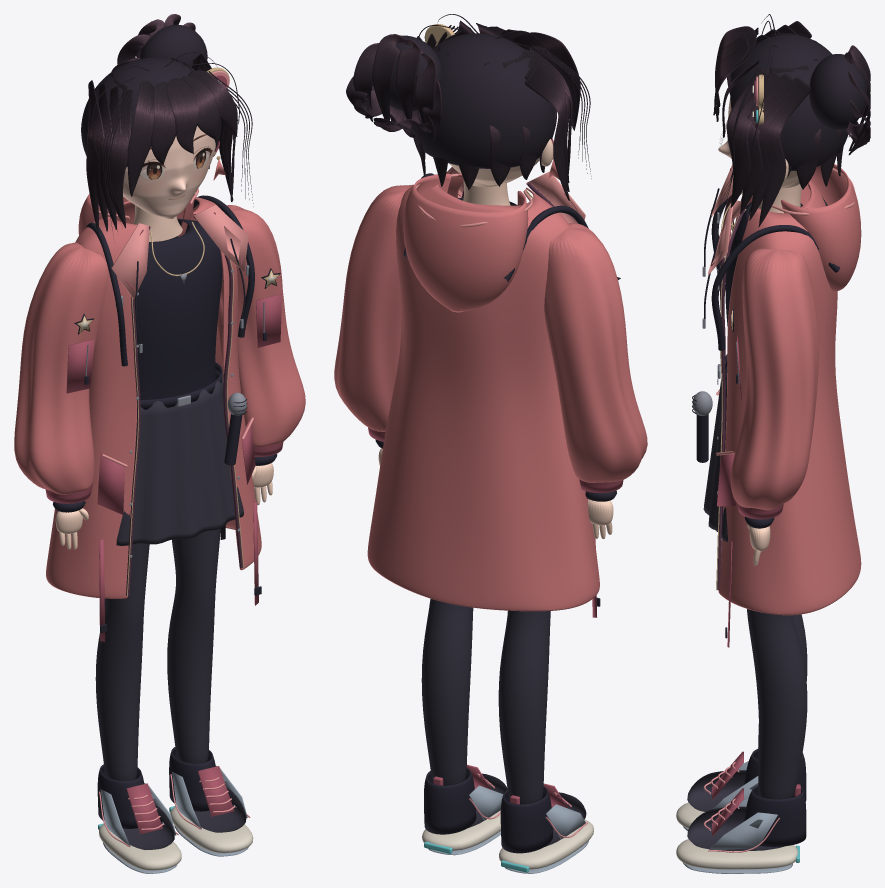
The model's file is kohaku.glb.
3 views of the same model, side by side, from view 1: azimuth 30°, elevation 25°; view 2: azimuth 150°, elevation 25°; view 3: azimuth 270°, elevation 25° (orthographic). The views are drawn at different scales.
Parts seen in each view (by area): view 1: body_surface, head_surface, arm_L_surface, leg_R_surface, leg_L_surface, arm_R_surface, pony_R_surface; view 2: body_surface, head_surface, arm_L_surface, leg_L_surface, leg_R_surface, arm_R_surface, pony_R_surface; view 3: body_surface, arm_R_surface, head_surface, leg_R_surface, pony_R_surface, leg_L_surface.
Boxes of the visible parts, x1,y1,x2,y2 form: body_surface: [46, 188, 261, 641]; head_surface: [81, 52, 253, 242]; arm_L_surface: [14, 242, 108, 549]; leg_R_surface: [167, 526, 253, 856]; leg_L_surface: [95, 543, 181, 873]; arm_R_surface: [217, 205, 305, 505]; pony_R_surface: [111, 14, 207, 71]; body_surface: [367, 167, 600, 617]; head_surface: [411, 14, 591, 200]; arm_L_surface: [544, 223, 647, 539]; leg_L_surface: [498, 610, 593, 873]; leg_R_surface: [421, 598, 507, 855]; arm_R_surface: [334, 184, 413, 465]; pony_R_surface: [346, 34, 441, 140]; body_surface: [692, 164, 861, 647]; arm_R_surface: [730, 248, 818, 565]; head_surface: [713, 14, 848, 226]; leg_R_surface: [676, 609, 807, 873]; pony_R_surface: [809, 45, 870, 155]; leg_L_surface: [676, 614, 807, 830].
Size of the model in its own units: 0.6792 by 1.8 by 0.3861.
Materials: 19 (3 with a texture image).
